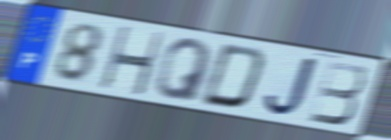8: (52, 23, 106, 84)
B: (306, 58, 368, 127)
D: (198, 42, 269, 112)
H: (97, 24, 167, 98)
J: (261, 54, 321, 118)
Q: (152, 37, 215, 104)
